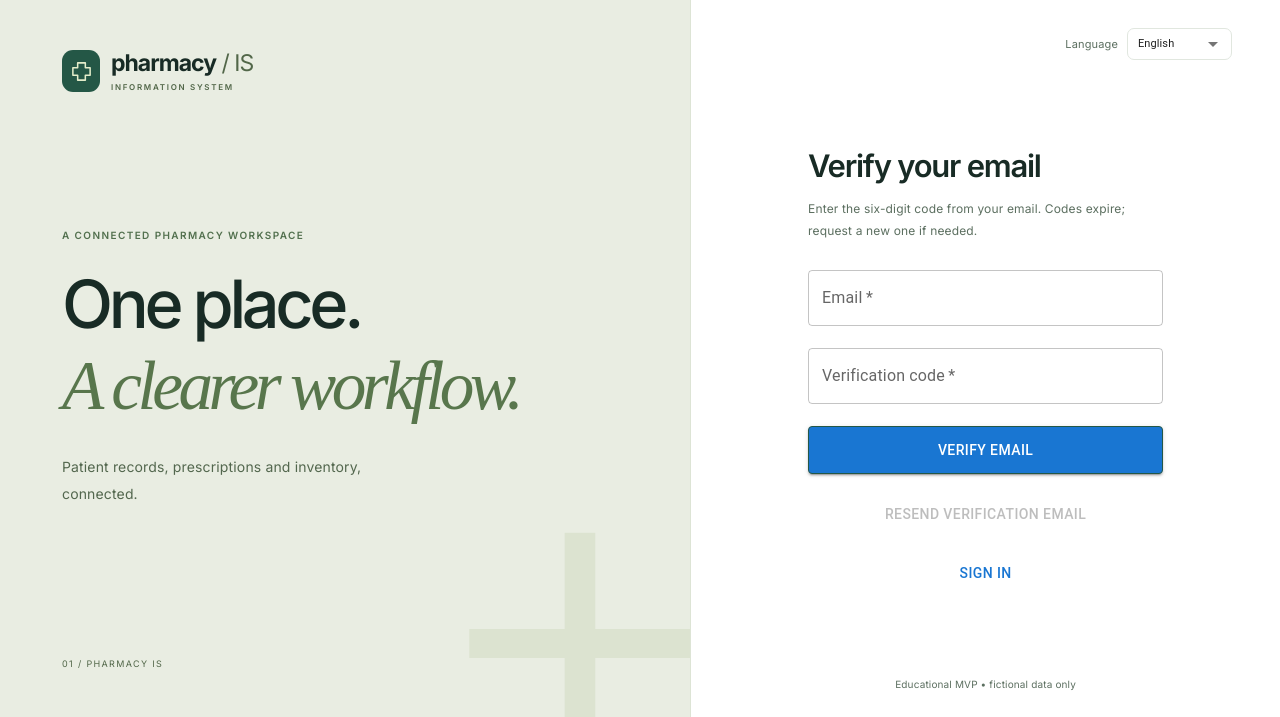
Test case: resend starts a cooldown and displays provider rate limit errors
Type "person@example.test" into the field labelled "Email *" at x=986, y=298, box [808, 270, 1163, 326]
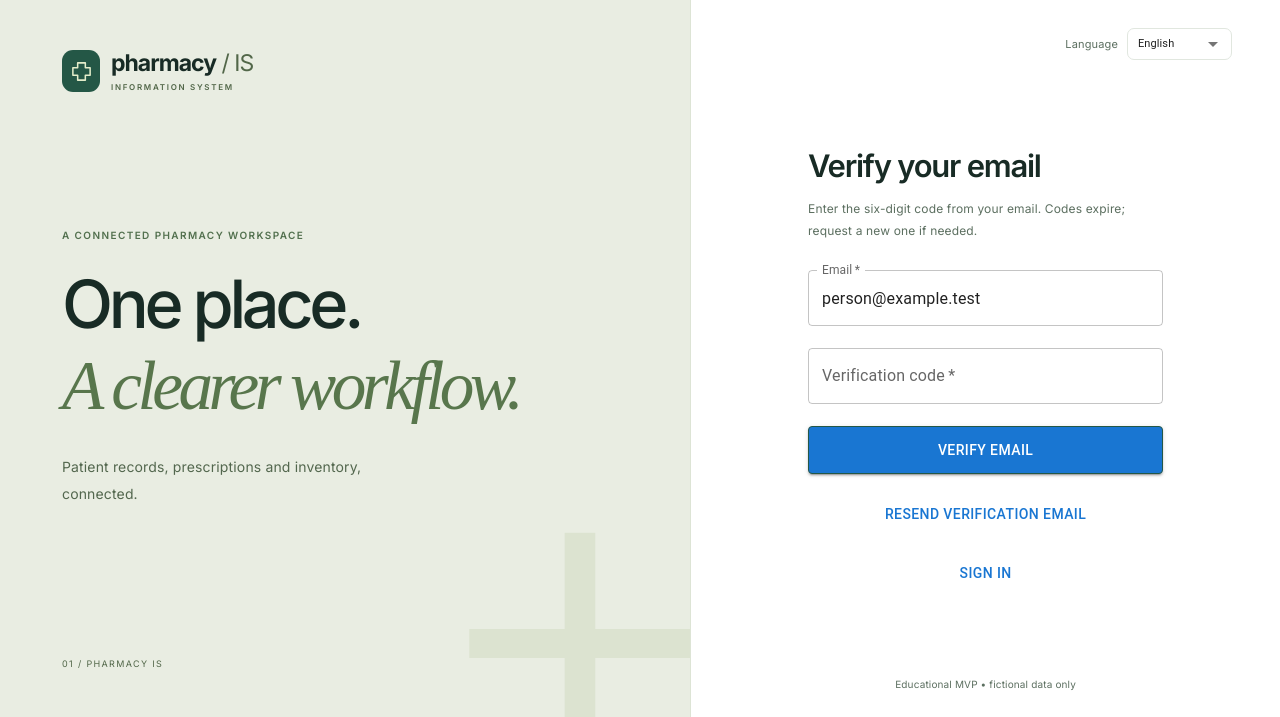
Click the button "Resend verification email" at x=986, y=515, box [808, 496, 1163, 533]
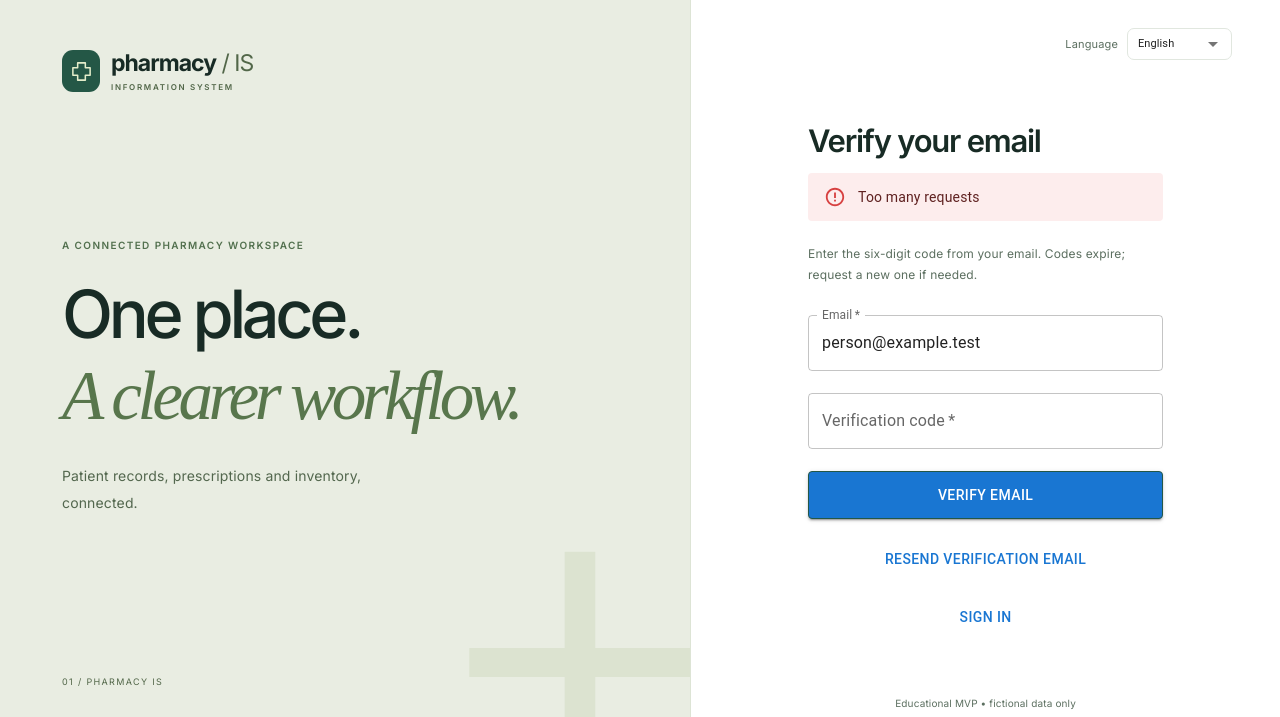
Now the message reads "Too many requests", box [858, 189, 980, 205]
Click the button "Resend verification email" at x=986, y=559, box [808, 541, 1163, 577]
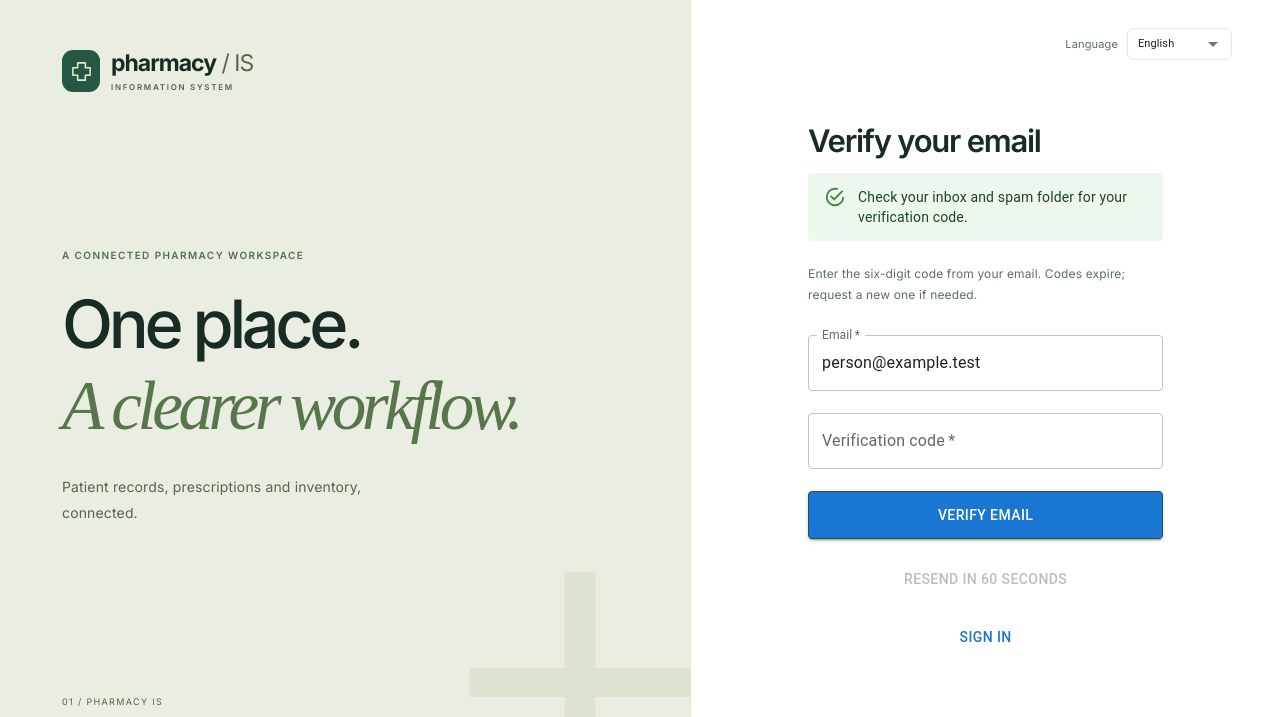
Now the button "Resend in 60 seconds" is disabled, box [808, 561, 1163, 597]
